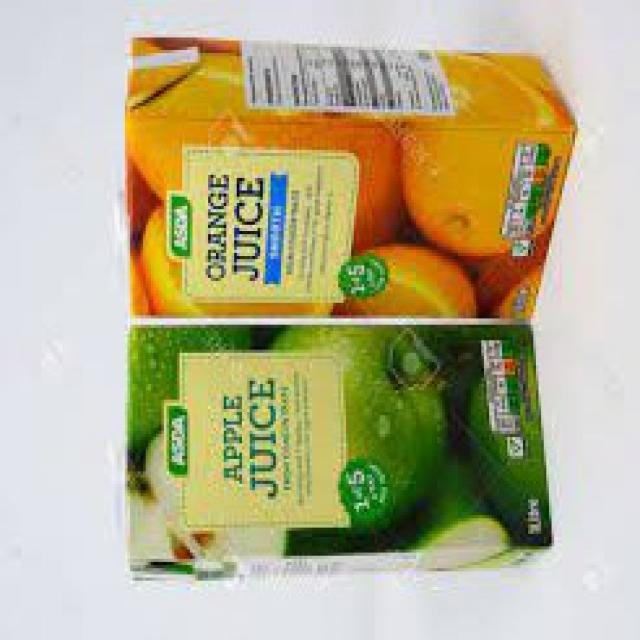non_white_jug: (119, 32, 580, 325), (119, 325, 557, 581)
